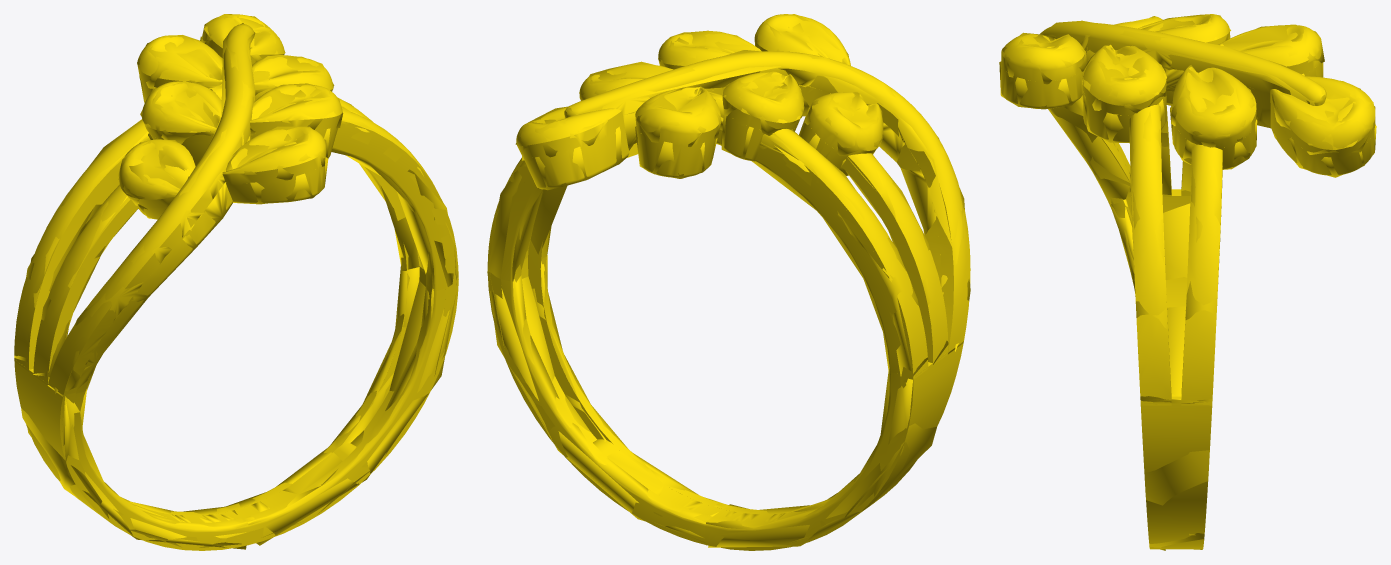
The model's file is GLR-D000578688_hub.glb.
3 views of the same model, side by side, from view 1: azimuth 30°, elevation 25°; view 2: azimuth 150°, elevation 25°; view 3: azimuth 270°, elevation 25° (orthographic). The views are drawn at different scales.
Visible parts, largest first — view 1: highPolyMesh, lowPolyMesh; view 2: highPolyMesh, lowPolyMesh; view 3: highPolyMesh, lowPolyMesh.
Part boxes in pixels (x1,y1,x2,y2): highPolyMesh: (14, 14, 458, 550); lowPolyMesh: (14, 14, 458, 549); highPolyMesh: (487, 14, 970, 550); lowPolyMesh: (487, 14, 970, 547); highPolyMesh: (1001, 14, 1375, 549); lowPolyMesh: (999, 14, 1376, 550).
Size of the model in its own units: 0.0197 by 0.0211 by 0.0146.
